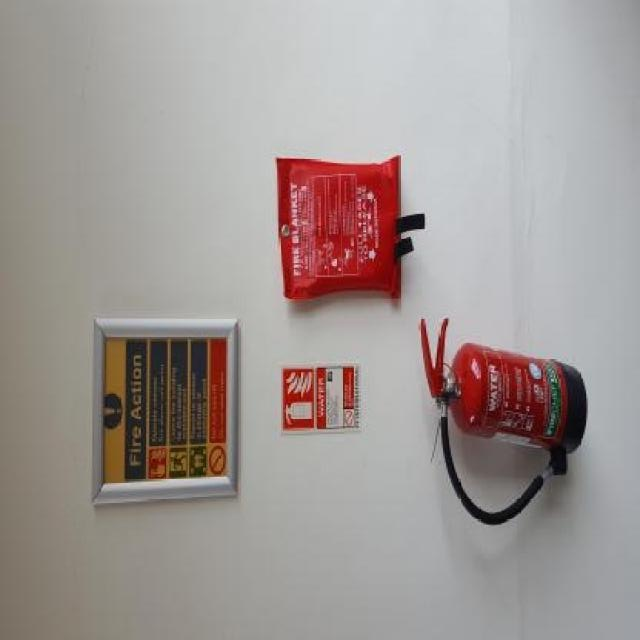fire extinguisher: (421, 316, 588, 529)
